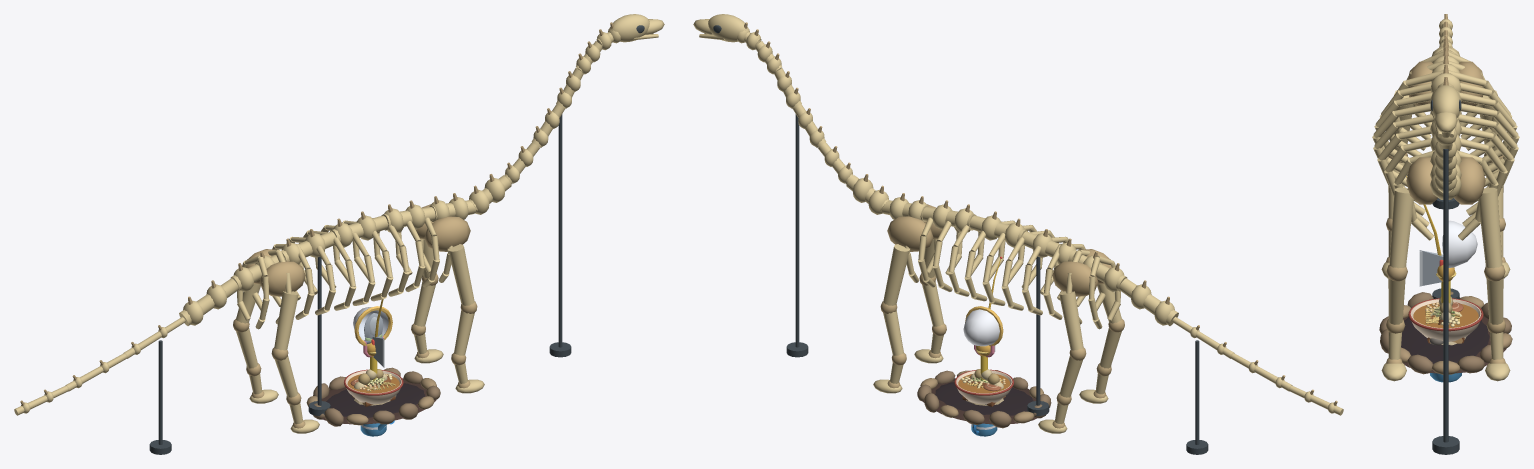
The model's file is items.glb.
3 renders of one model, left to right at view 1: azimuth 30°, elevation 25°; view 2: azimuth 150°, elevation 25°; view 3: azimuth 270°, elevation 25°, orthographic. The views are drawn at different scales.
Visible parts, largest first — view 1: gallery_sauropod, story_hollow, story_ramen__main, tool_net; view 2: gallery_sauropod, story_hollow, tool_net, story_ramen__main; view 3: gallery_sauropod, story_hollow, story_ramen__main, tool_net, tool_axe, tool_can, tool_rod__main, hunt_bell, fossil_ammonite.
Boxes of the visible parts, box(x1,y1,x2,y2) form: gallery_sauropod: box(14, 14, 664, 454); story_hollow: box(306, 367, 440, 426); story_ramen__main: box(344, 369, 403, 404); tool_net: box(353, 306, 392, 346); gallery_sauropod: box(693, 14, 1343, 454); story_hollow: box(917, 370, 1051, 428); tool_net: box(963, 306, 1003, 346); story_ramen__main: box(954, 369, 1013, 404); gallery_sauropod: box(1372, 14, 1519, 454); story_hollow: box(1379, 291, 1512, 374); story_ramen__main: box(1408, 298, 1483, 341); tool_net: box(1448, 220, 1477, 267); tool_axe: box(1419, 250, 1443, 286); tool_can: box(1430, 372, 1462, 382); tool_rod__main: box(1406, 176, 1441, 255); hunt_bell: box(1436, 265, 1456, 281); fossil_ammonite: box(1438, 296, 1453, 319).
Bounding box in the file's own units: 8.88 × 4.64 × 1.39.
